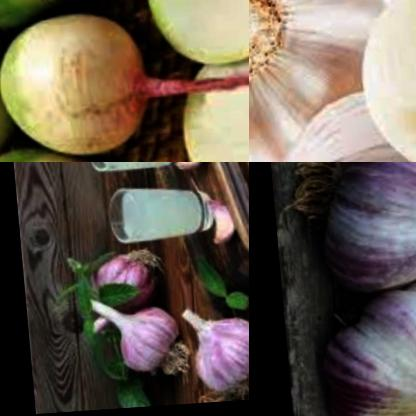garlic: (249, 0, 404, 162), (294, 162, 416, 310), (313, 266, 416, 416), (249, 94, 416, 162), (348, 0, 416, 162), (71, 290, 177, 382), (172, 304, 249, 406), (75, 246, 162, 334), (195, 203, 239, 262), (157, 162, 209, 175)
redka: (0, 7, 159, 161), (170, 39, 249, 162), (137, 0, 249, 69), (0, 0, 120, 25)
